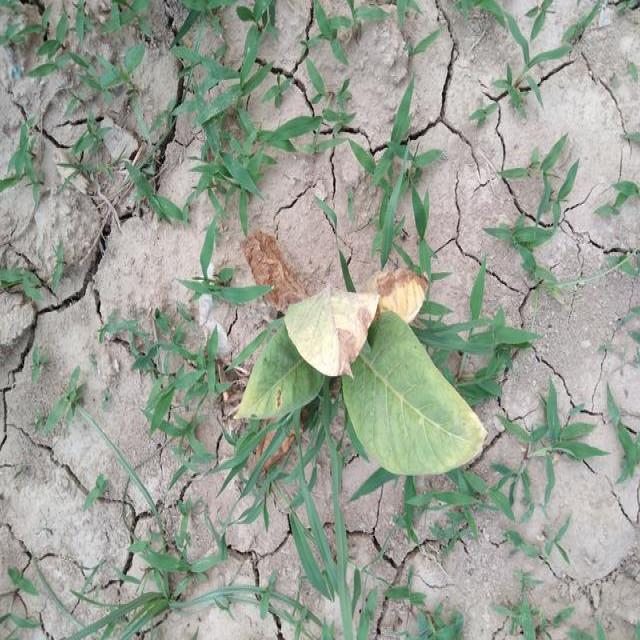crop: (239, 255, 488, 475)
